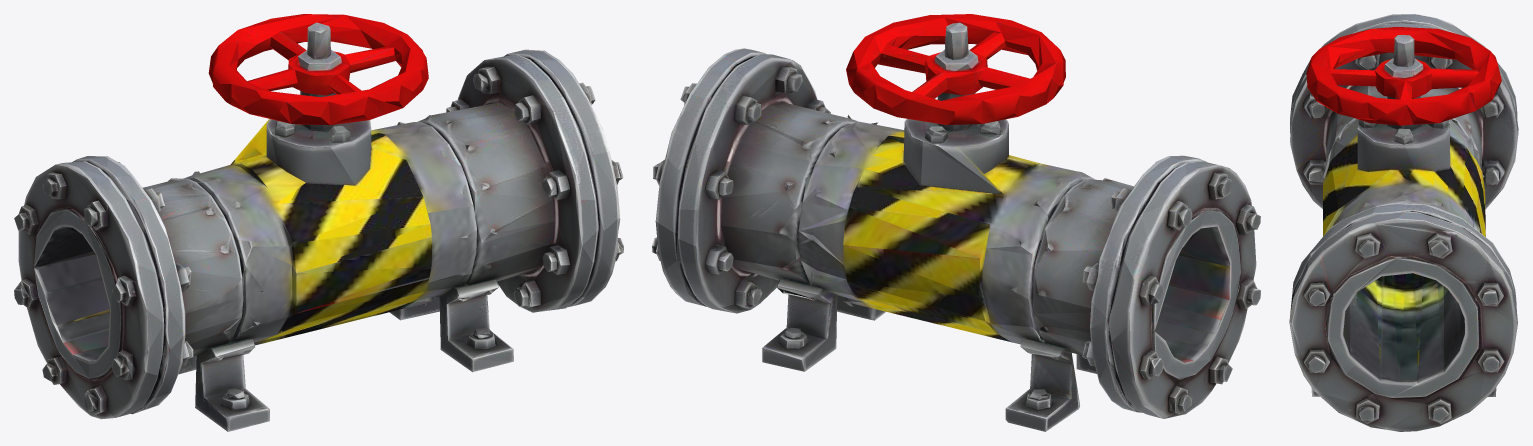
File: prop-pipe.glb
3 renders of one model, left to right at view 1: azimuth 30°, elevation 25°; view 2: azimuth 150°, elevation 25°; view 3: azimuth 270°, elevation 25°, orthographic. The views are drawn at different scales.
Bounding box in the file's own units: 1.9 × 1.2 × 0.8389.
1 material, 1 textured.
